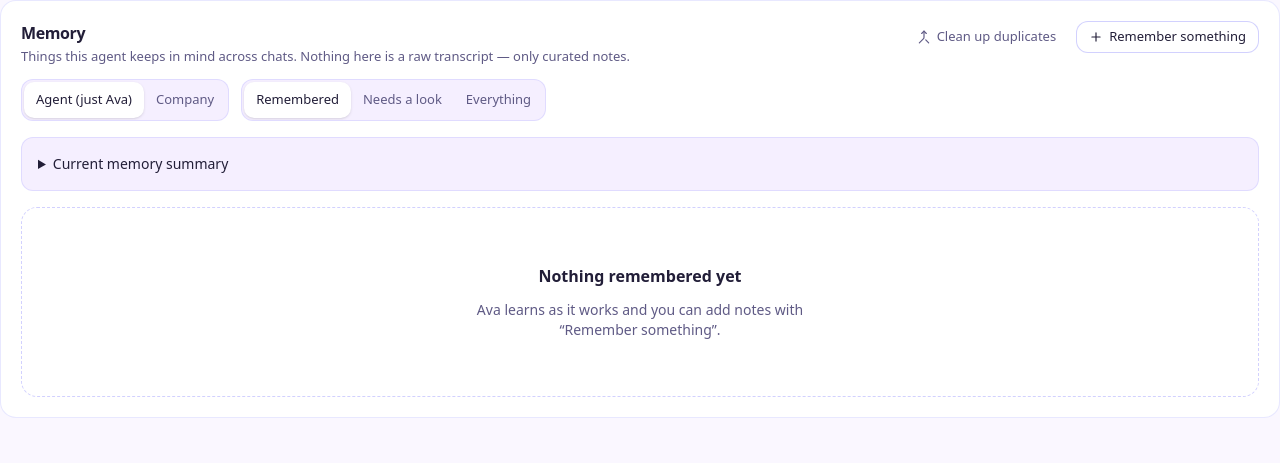
Test case: MemoryPanel duplicates cleanup › lets an admin merge duplicates and shows the result
Click the button "Clean up duplicates".
click(986, 37)  # box [905,21,1068,53]
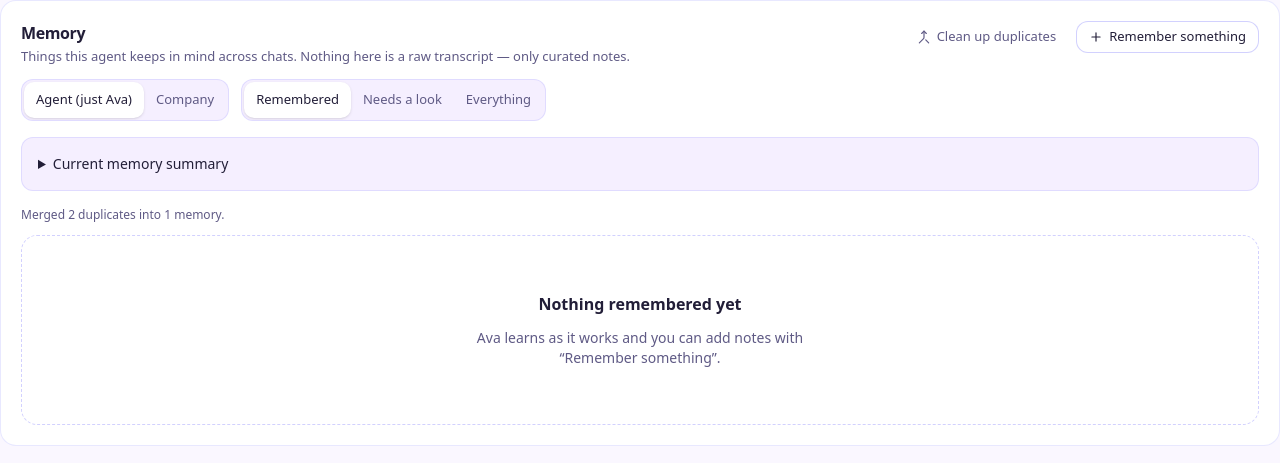
Result: the message reads "Merged 2 duplicates into 1 memory." at [21,206,224,222]
